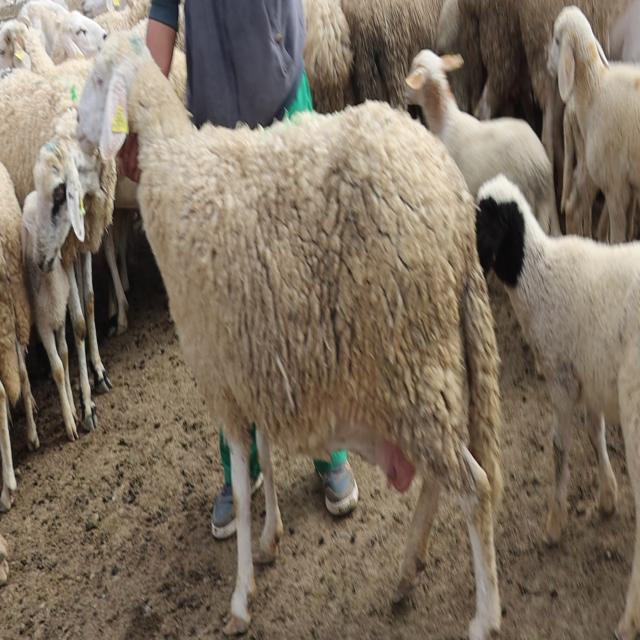Score_2: (77, 32, 502, 639)
